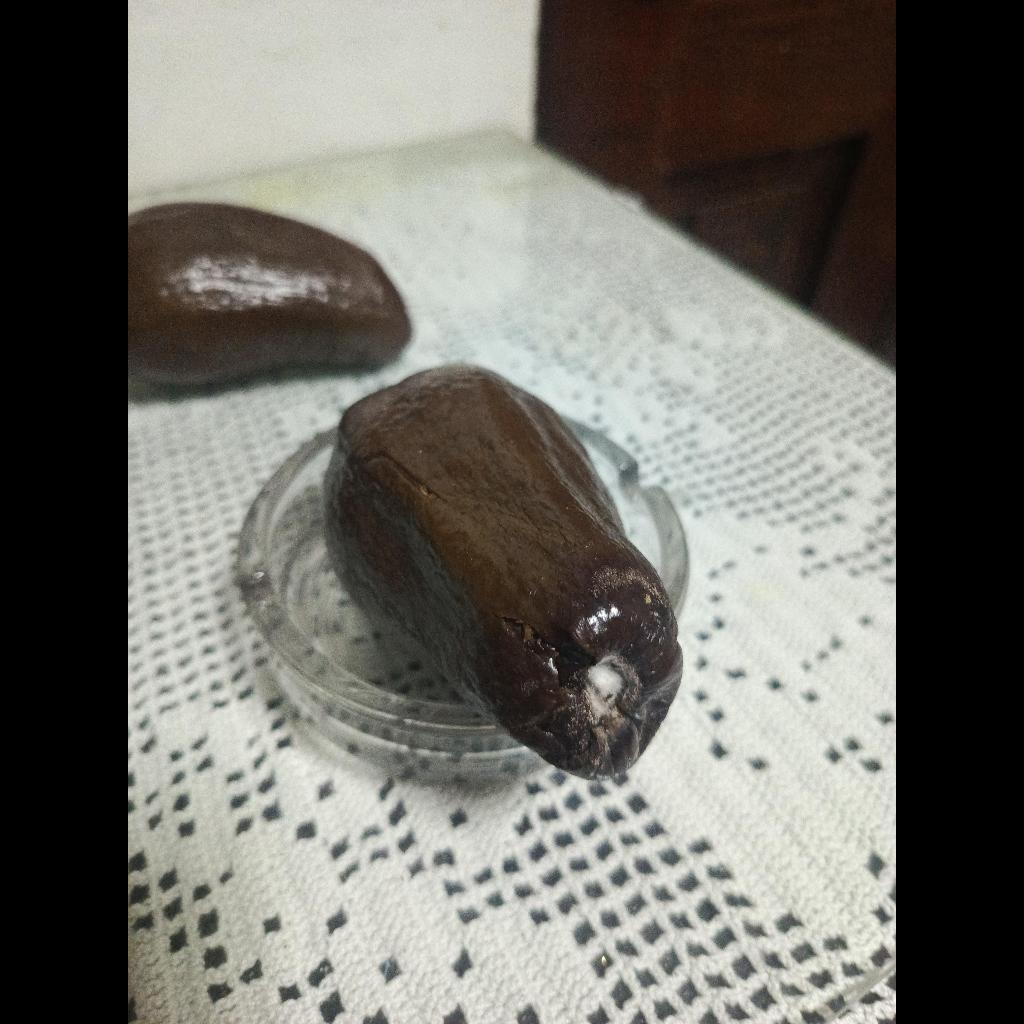stem end rot: (324, 366, 682, 779)
